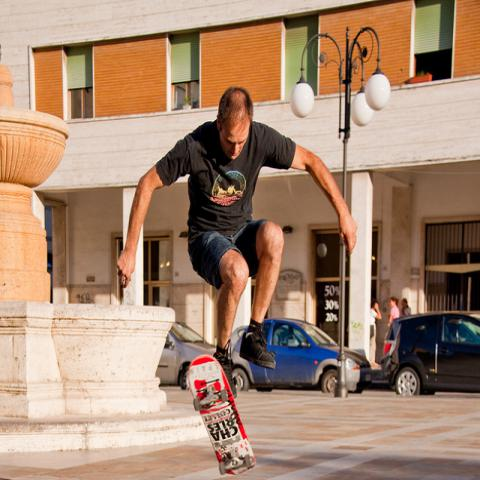car: (230, 317, 375, 400), (381, 311, 479, 396), (154, 321, 216, 392)
